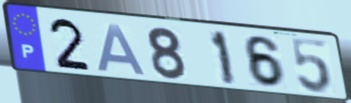1: (207, 29, 239, 87)
2: (47, 16, 93, 73)
5: (289, 36, 334, 96)
6: (241, 35, 288, 91)
8: (145, 25, 189, 81)
A: (95, 22, 149, 77)
